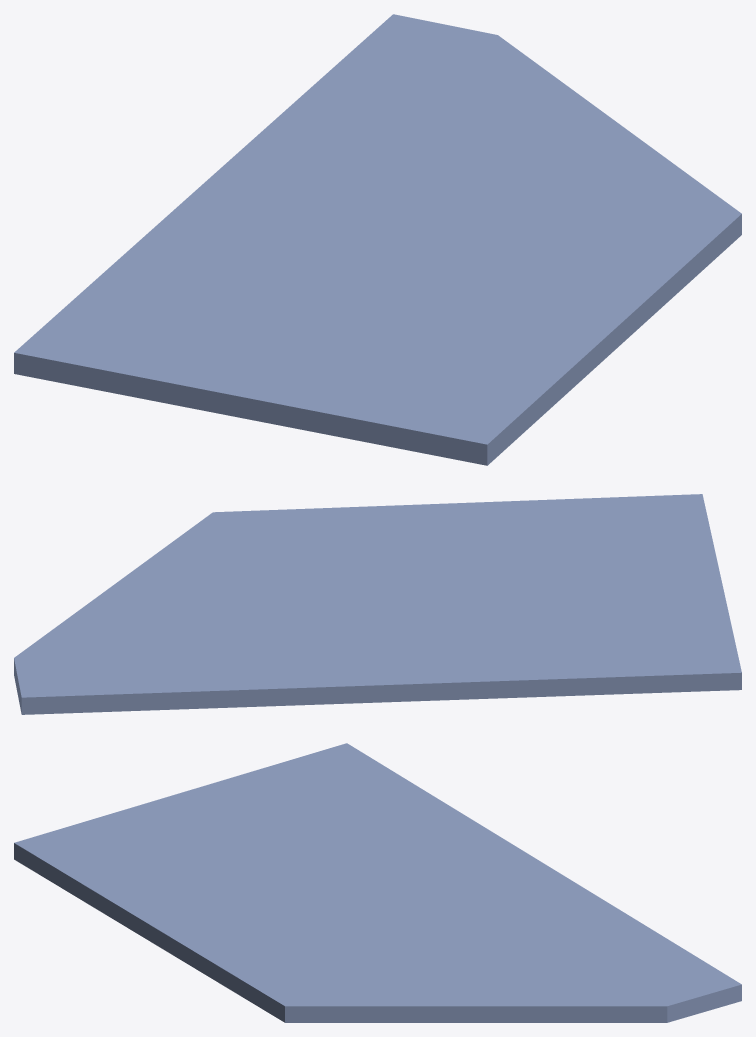
File: Pat22Floor.gltf
The picture shows the model from 3 angles, top to bottom: view 1: azimuth 30°, elevation 25°; view 2: azimuth 150°, elevation 25°; view 3: azimuth 270°, elevation 25°; orthographic projection. The views are drawn at different scales.
Bounding box in the file's own units: 68.01 × 2 × 79.52.
